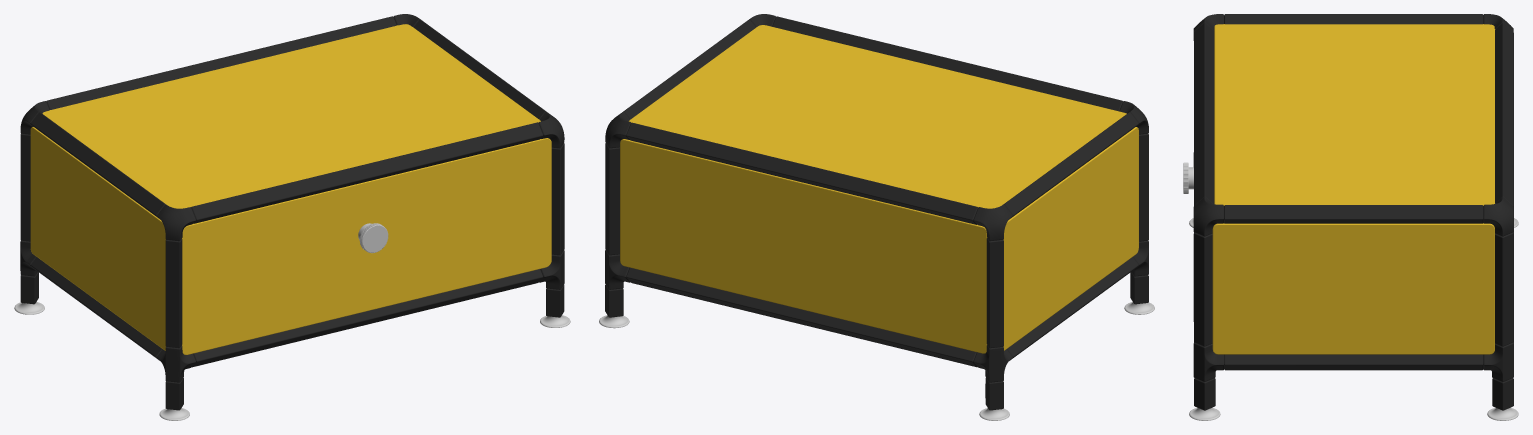
3 renders of one model, left to right at view 1: azimuth 30°, elevation 25°; view 2: azimuth 150°, elevation 25°; view 3: azimuth 270°, elevation 25°, orthographic. The views are drawn at different scales.
Visible parts, largest first — view 1: 523x329x154; view 2: 523x329x154; view 3: 523x329x154.
Part boxes in pixels (x1=…): 523x329x154: x1=14, y1=14, x2=570, y2=420; 523x329x154: x1=599, y1=14, x2=1154, y2=420; 523x329x154: x1=1183, y1=14, x2=1518, y2=420.
Bounding box in the file's own units: 0.6129 × 0.2933 × 0.4257.
